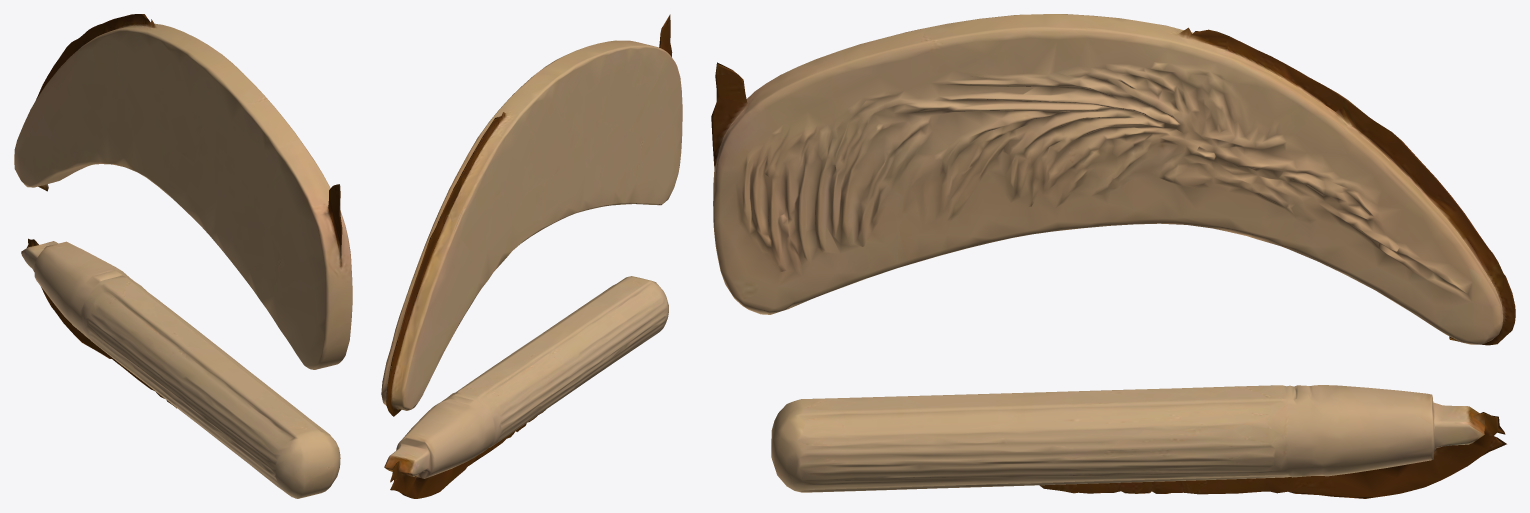
File: brows.glb
3 renders of one model, left to right at view 1: azimuth 30°, elevation 25°; view 2: azimuth 150°, elevation 25°; view 3: azimuth 270°, elevation 25°, orthographic. The views are drawn at different scales.
Parts seen in each view (by area): view 1: tripo_node_8e62c8b0-1c1c-4b6f-95bf-58b3c278bf8f; view 2: tripo_node_8e62c8b0-1c1c-4b6f-95bf-58b3c278bf8f; view 3: tripo_node_8e62c8b0-1c1c-4b6f-95bf-58b3c278bf8f.
Part boxes in pixels (bbox=[...]): tripo_node_8e62c8b0-1c1c-4b6f-95bf-58b3c278bf8f: bbox=[14, 14, 352, 498]; tripo_node_8e62c8b0-1c1c-4b6f-95bf-58b3c278bf8f: bbox=[381, 14, 682, 498]; tripo_node_8e62c8b0-1c1c-4b6f-95bf-58b3c278bf8f: bbox=[711, 14, 1515, 498].
Size of the model in its own units: 0.1186 by 0.6552 by 0.9996.
1 material, 1 textured.
